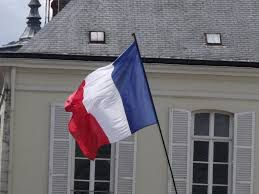French Flag: (65, 41, 156, 160)
